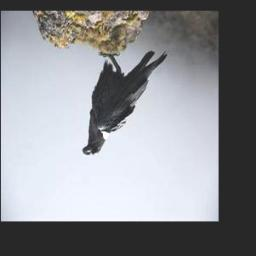Crow: (82, 46, 169, 161)
